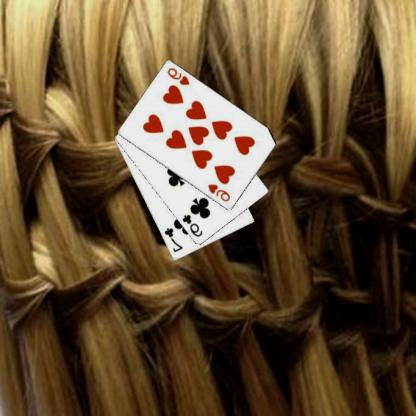6C: (181, 212, 206, 238)
7C: (164, 225, 186, 254)
9H: (206, 182, 234, 203), (166, 65, 192, 87)
